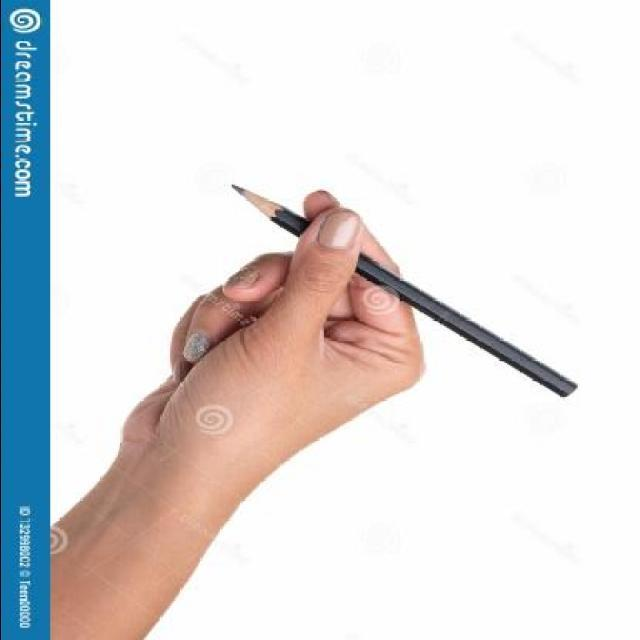pencil: (228, 185, 306, 228)
